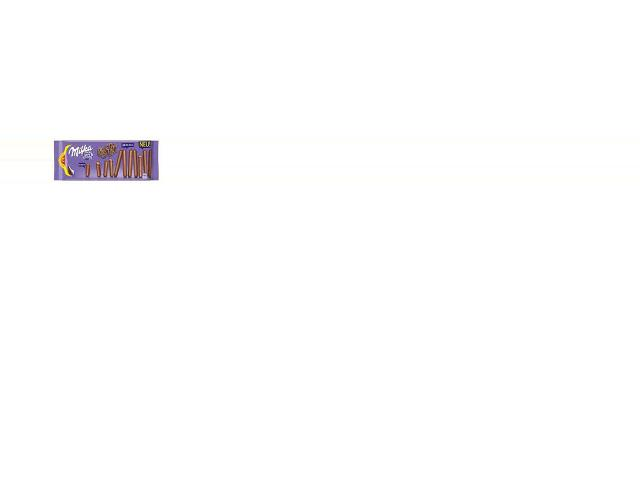chocolate: (52, 139, 160, 186)
